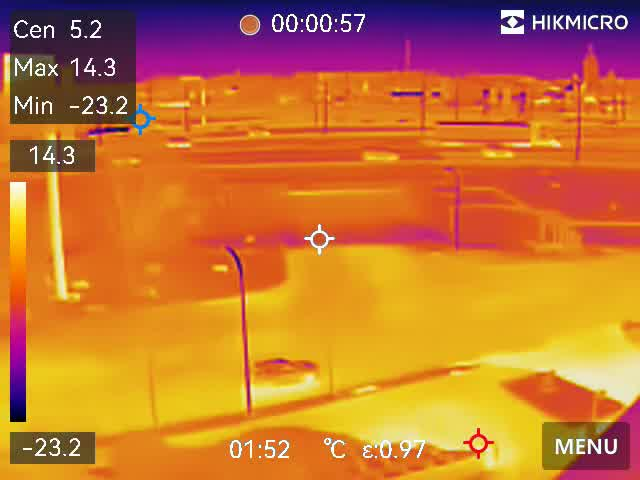heavyTruck: (425, 116, 566, 149)
vehicle: (251, 357, 323, 385), (360, 145, 399, 163), (161, 137, 192, 151), (240, 127, 273, 140)
